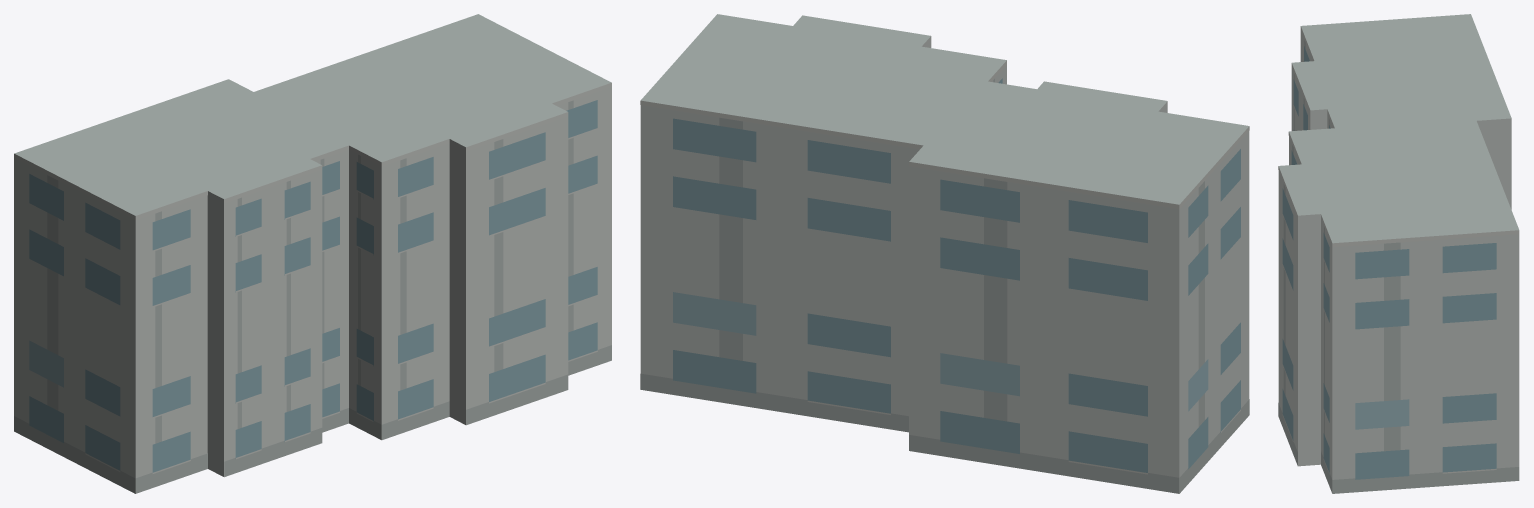
The model's file is residential-24c6d085-e72c-40ec-ba0d-a5357e58f942.glb.
3 renders of one model, left to right at view 1: azimuth 30°, elevation 25°; view 2: azimuth 150°, elevation 25°; view 3: azimuth 270°, elevation 25°, orthographic. The views are drawn at different scales.
Visible parts, largest first — view 1: residential-24c6d085-e72c-40ec-ba0d-a5357e58f942.tmp; view 2: residential-24c6d085-e72c-40ec-ba0d-a5357e58f942.tmp; view 3: residential-24c6d085-e72c-40ec-ba0d-a5357e58f942.tmp.
Boxes of the visible parts, bbox=[...] form: residential-24c6d085-e72c-40ec-ba0d-a5357e58f942.tmp: bbox=[14, 14, 611, 493]; residential-24c6d085-e72c-40ec-ba0d-a5357e58f942.tmp: bbox=[640, 14, 1249, 493]; residential-24c6d085-e72c-40ec-ba0d-a5357e58f942.tmp: bbox=[1278, 14, 1519, 493].
Size of the model in its own units: 29.92 by 15.25 by 13.29.
